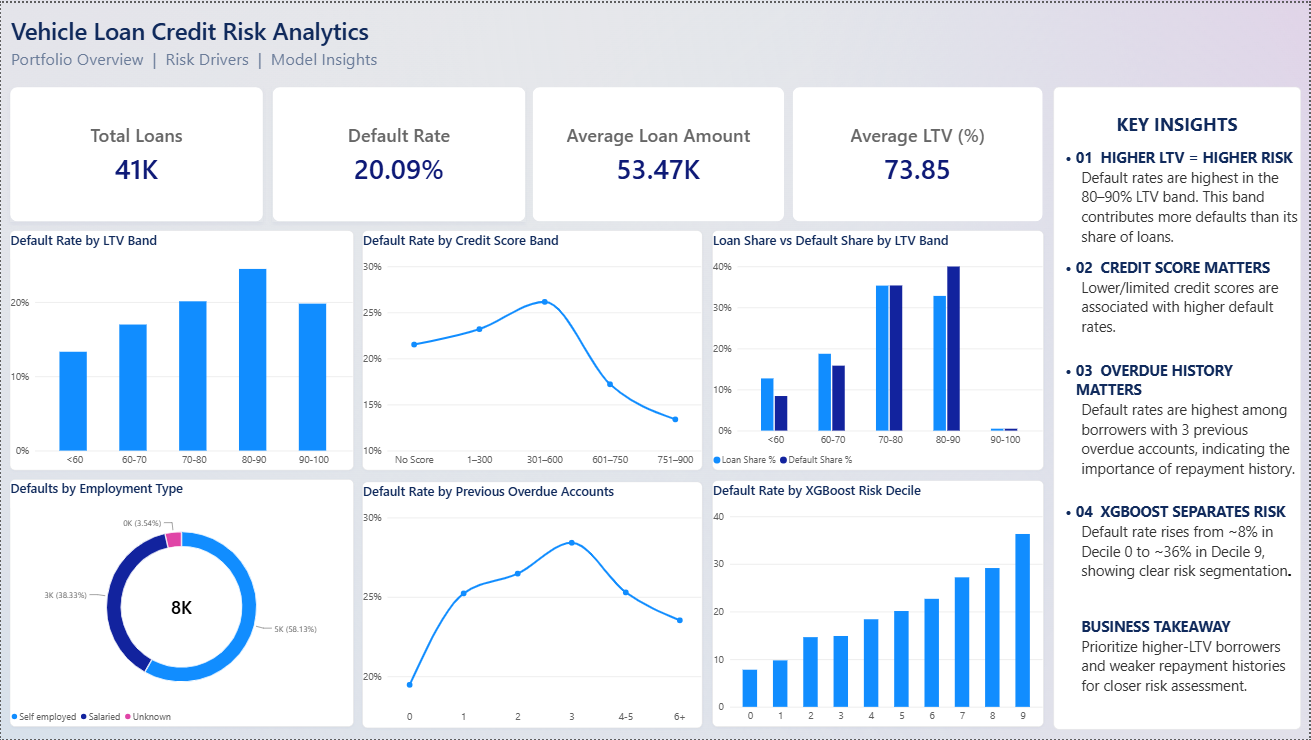

Layout of this report page (visuals, bound fields, positions):
{"tool":"powerbi","page":{"name":"Page 1","canvas":[1920,1080],"ordinal":0},"visuals":[{"type":"cardVisual","fields":{"Data":["loan_risk_cleaned.Total Loans"]},"box":[12.8,122.9,372.4,198.1],"z":0},{"type":"cardVisual","fields":{"Data":["loan_risk_cleaned.Default Rate"]},"box":[398,122.9,372.4,198.1],"z":1000},{"type":"cardVisual","fields":{"Data":["loan_risk_cleaned.Average Loan Amount"]},"box":[779.6,122.9,370.5,198.1],"z":2000},{"type":"clusteredColumnChart","title":"Default Rate by LTV Band","fields":{"Category":["loan_risk_cleaned.LTV Band"],"Y":["loan_risk_cleaned.Default Rate"]},"box":[12.8,333.8,504.4,352.2],"z":3000},{"type":"cardVisual","fields":{"Data":["loan_risk_cleaned.Average LTV"]},"box":[1161.1,122.9,368.7,198.1],"z":4000},{"type":"lineChart","title":"Default Rate by Credit Score Band","fields":{"Category":["loan_risk_cleaned.credit_score_bucket"],"Y":["loan_risk_cleaned.Default Rate"]},"box":[530.1,333.8,498.9,352.2],"z":5000},{"type":"lineChart","title":"Default Rate by Previous Overdue Accounts","fields":{"Category":["loan_risk_cleaned.Overdue Band"],"Y":["loan_risk_cleaned.Default Rate"]},"box":[530.1,702.5,498.9,361.3],"z":6000},{"type":"donutChart","title":"Defaults by Employment Type","fields":{"Category":["loan_risk_cleaned.Employment.Type"],"Y":["loan_risk_cleaned.Default Count"]},"box":[12.8,698.8,504.4,363.2],"z":7000},{"type":"lineClusteredColumnComboChart","title":"Loan Share vs Default Share by LTV Band","fields":{"Category":["loan_risk_cleaned.LTV Band"],"Y":["loan_risk_cleaned.Loan Share %","loan_risk_cleaned.Default Share %"]},"box":[1043.7,333.8,486.1,352.2],"z":8000},{"type":"clusteredColumnChart","title":"Default Rate by XGBoost Risk Decile","fields":{"Category":["XGBoost Risk Deciles.Risk Decile"],"Y":["Sum(XGBoost Risk Deciles.Default Rate)"]},"box":[1043.7,700.7,486.1,361.3],"z":9000},{"type":"textbox","title":"Vehicle Loan Credit Risk Analytics","box":[14.7,16.5,570.5,141.2],"z":10000},{"type":"textbox","title":"KEY INSIGHTS","box":[1544.4,122.9,363.2,942.8],"z":11000}]}

Visuals, with their boxes in screenshot pixels (x1, y1, x2, y2), scaled from the page's 1920x1080 canvas onto the 1311x740 screenshot:
cardVisual - loan_risk_cleaned.Total Loans: <region>9, 84, 263, 220</region>
cardVisual - loan_risk_cleaned.Default Rate: <region>272, 84, 526, 220</region>
cardVisual - loan_risk_cleaned.Average Loan Amount: <region>532, 84, 785, 220</region>
"Default Rate by LTV Band" clusteredColumnChart: <region>9, 229, 353, 470</region>
cardVisual - loan_risk_cleaned.Average LTV: <region>793, 84, 1045, 220</region>
"Default Rate by Credit Score Band" lineChart: <region>362, 229, 703, 470</region>
"Default Rate by Previous Overdue Accounts" lineChart: <region>362, 481, 703, 729</region>
"Defaults by Employment Type" donutChart: <region>9, 479, 353, 728</region>
"Loan Share vs Default Share by LTV Band" lineClusteredColumnComboChart: <region>713, 229, 1045, 470</region>
"Default Rate by XGBoost Risk Decile" clusteredColumnChart: <region>713, 480, 1045, 728</region>
"Vehicle Loan Credit Risk Analytics" textbox: <region>10, 11, 400, 108</region>
"KEY INSIGHTS" textbox: <region>1055, 84, 1303, 730</region>
